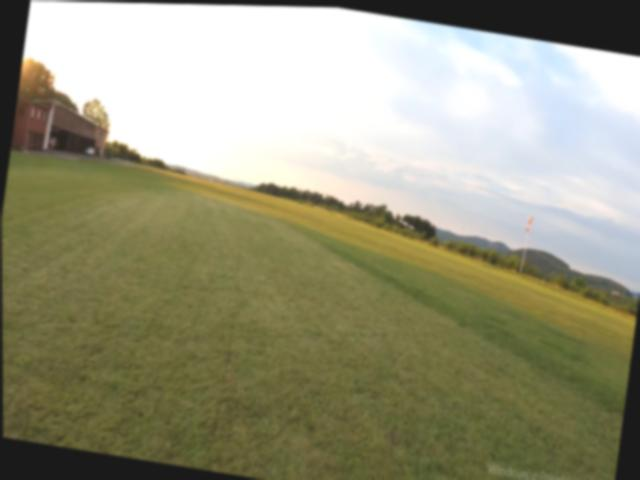plane: (397, 215, 415, 229)
